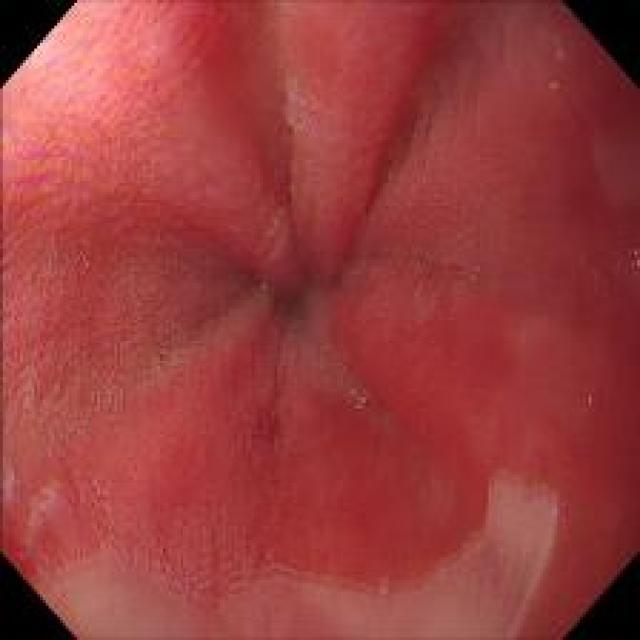blur: (71, 66, 570, 568)
bubbles: (546, 36, 566, 100), (459, 259, 488, 292), (44, 235, 62, 280), (348, 388, 371, 414), (76, 254, 92, 271), (81, 238, 92, 252)
color misalignment: (612, 238, 639, 276), (582, 381, 598, 412)
